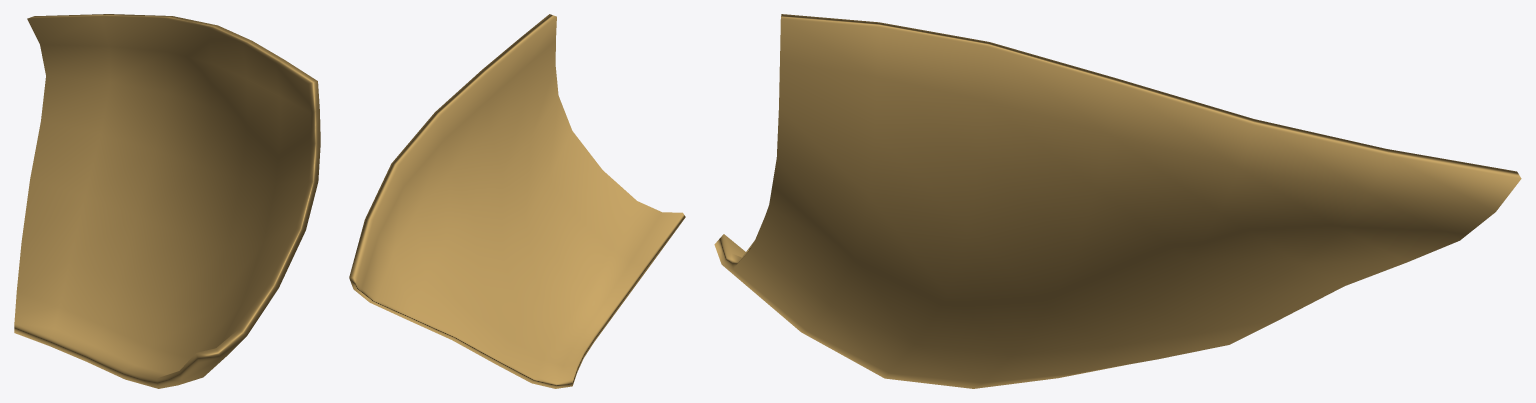
The picture shows the model from 3 angles, left to right: view 1: azimuth 30°, elevation 25°; view 2: azimuth 150°, elevation 25°; view 3: azimuth 270°, elevation 25°; orthographic projection. The views are drawn at different scales.
Visible parts, largest first — view 1: 左侧胫腓前韧带; view 2: 左侧胫腓前韧带; view 3: 左侧胫腓前韧带.
Part boxes in pixels (box(x1,y1,x2,y2)): 左侧胫腓前韧带: box(14, 14, 320, 388); 左侧胫腓前韧带: box(349, 14, 685, 388); 左侧胫腓前韧带: box(714, 14, 1521, 388).
Size of the model in its own units: 0.0149 by 0.024 by 0.0392.
